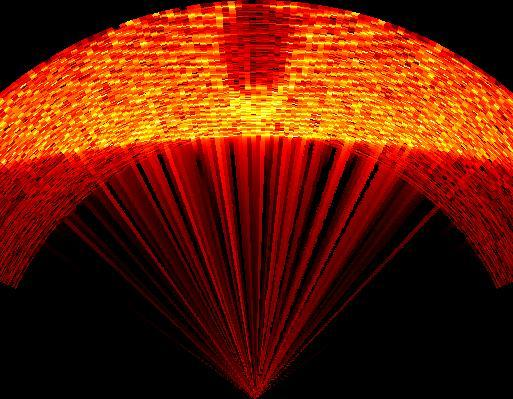box_crate: (220, 2, 292, 90)
